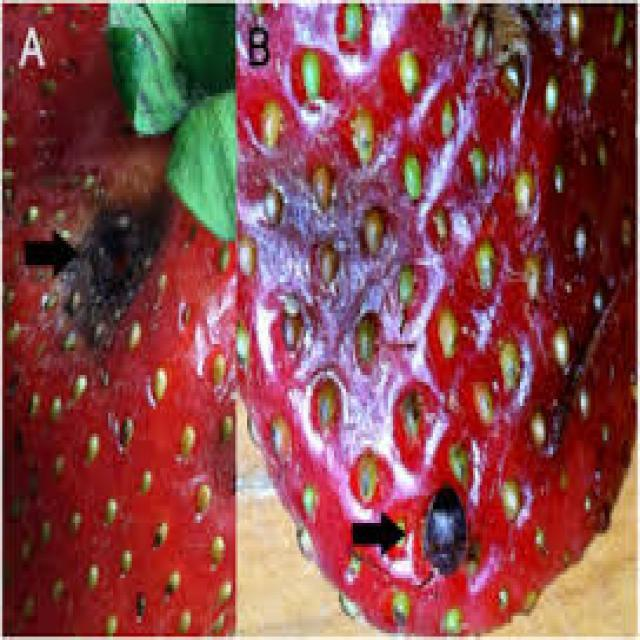Mancha negra Antracnosis: (242, 12, 632, 613), (17, 22, 228, 604)
